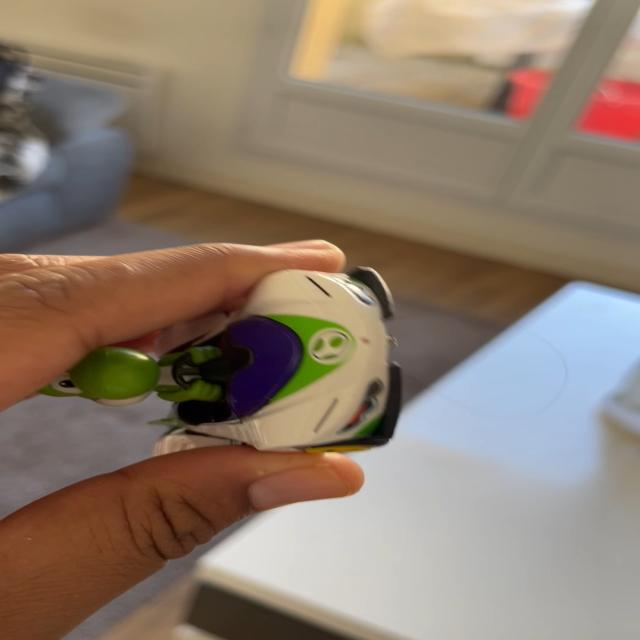yoshi: (36, 278, 419, 468)
